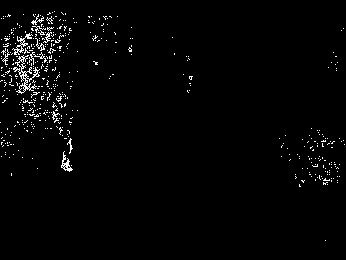person: (48, 91, 84, 173)
